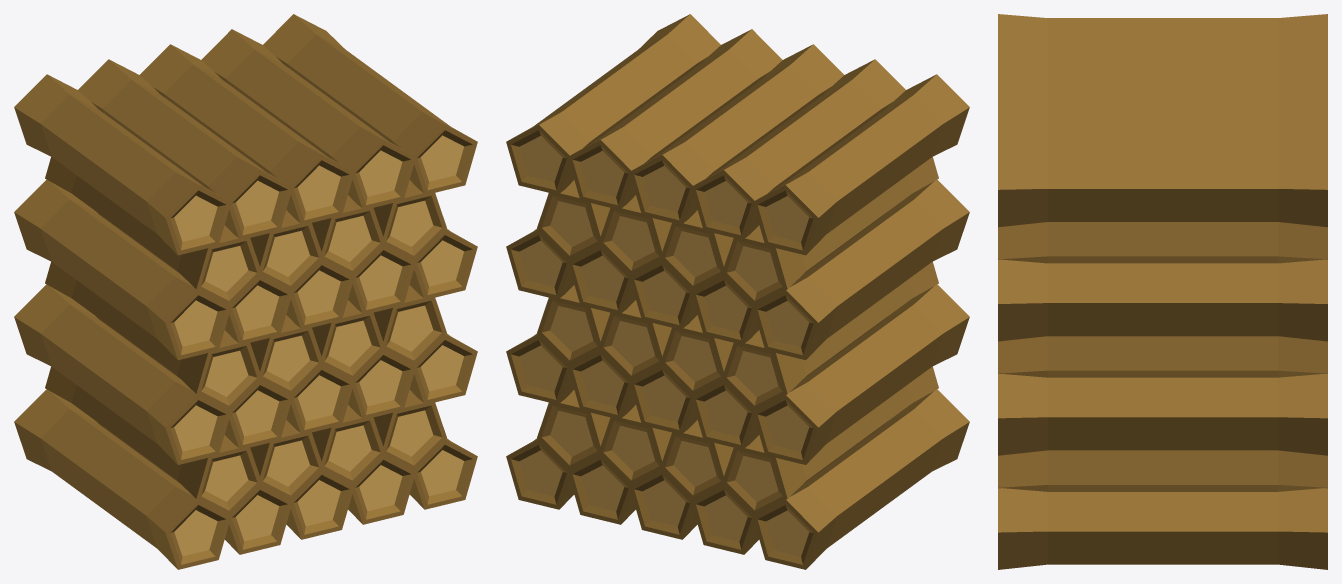
Rendered from wood.glb.
3 renders of one model, left to right at view 1: azimuth 30°, elevation 25°; view 2: azimuth 150°, elevation 25°; view 3: azimuth 270°, elevation 25°, orthographic. The views are drawn at different scales.
Visible parts, largest first — view 1: Wood.033, Wood.024, Wood.015, Wood.6, Wood.029, Wood.031, Wood.035, Wood.028, Wood.016, Wood.025, Wood.7, Wood.018 (+20 smaller); view 2: Wood.033, Wood.6, Wood.024, Wood.015, Wood.035, Wood.028, Wood.029, Wood.031, Wood.7, Wood.016, Wood.025, Wood.3 (+20 smaller); view 3: Wood.026, Wood.017, Wood.8, Wood.035, Wood.9, Wood.027, Wood.018, Wood.028, Wood.031, Wood.029, Wood.033.
Boxes of the visible parts, x1=… form: Wood.033: x1=14, y1=74, x2=230, y2=255; Wood.024: x1=14, y1=179, x2=230, y2=360; Wood.015: x1=14, y1=284, x2=230, y2=464; Wood.6: x1=14, y1=389, x2=229, y2=569; Wood.029: x1=78, y1=59, x2=292, y2=240; Wood.031: x1=201, y1=29, x2=415, y2=210; Wood.035: x1=263, y1=14, x2=477, y2=194; Wood.028: x1=140, y1=44, x2=353, y2=225; Wood.016: x1=45, y1=261, x2=261, y2=410; Wood.025: x1=45, y1=157, x2=261, y2=305; Wood.7: x1=45, y1=366, x2=261, y2=514; Wood.018: x1=374, y1=285, x2=446, y2=365; Wood.033: x1=753, y1=74, x2=969, y2=255; Wood.6: x1=755, y1=389, x2=969, y2=569; Wood.024: x1=754, y1=179, x2=969, y2=360; Wood.015: x1=753, y1=284, x2=969, y2=464; Wood.035: x1=506, y1=14, x2=720, y2=193; Wood.028: x1=629, y1=44, x2=843, y2=223; Wood.029: x1=693, y1=59, x2=905, y2=238; Wood.031: x1=568, y1=29, x2=782, y2=208; Wood.7: x1=724, y1=366, x2=938, y2=515; Wood.016: x1=724, y1=261, x2=938, y2=410; Wood.025: x1=722, y1=157, x2=938, y2=305; Wood.3: x1=660, y1=420, x2=733, y2=500; Wood.026: x1=998, y1=259, x2=1327, y2=341; Wood.017: x1=998, y1=374, x2=1327, y2=455; Wood.8: x1=998, y1=488, x2=1327, y2=569; Wood.035: x1=998, y1=145, x2=1327, y2=227; Wood.9: x1=998, y1=450, x2=1327, y2=491; Wood.027: x1=998, y1=222, x2=1327, y2=263; Wood.018: x1=998, y1=336, x2=1327, y2=377; Wood.028: x1=998, y1=79, x2=1327, y2=116; Wood.031: x1=998, y1=112, x2=1327, y2=149; Wood.029: x1=998, y1=46, x2=1327, y2=83; Wood.033: x1=998, y1=14, x2=1327, y2=50.
Size of the model in its own units: 0.8109 by 0.9425 by 0.6807.
